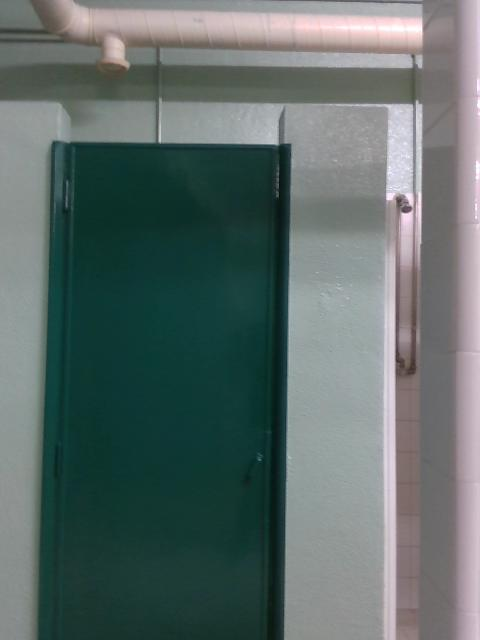door: (57, 141, 278, 640)
